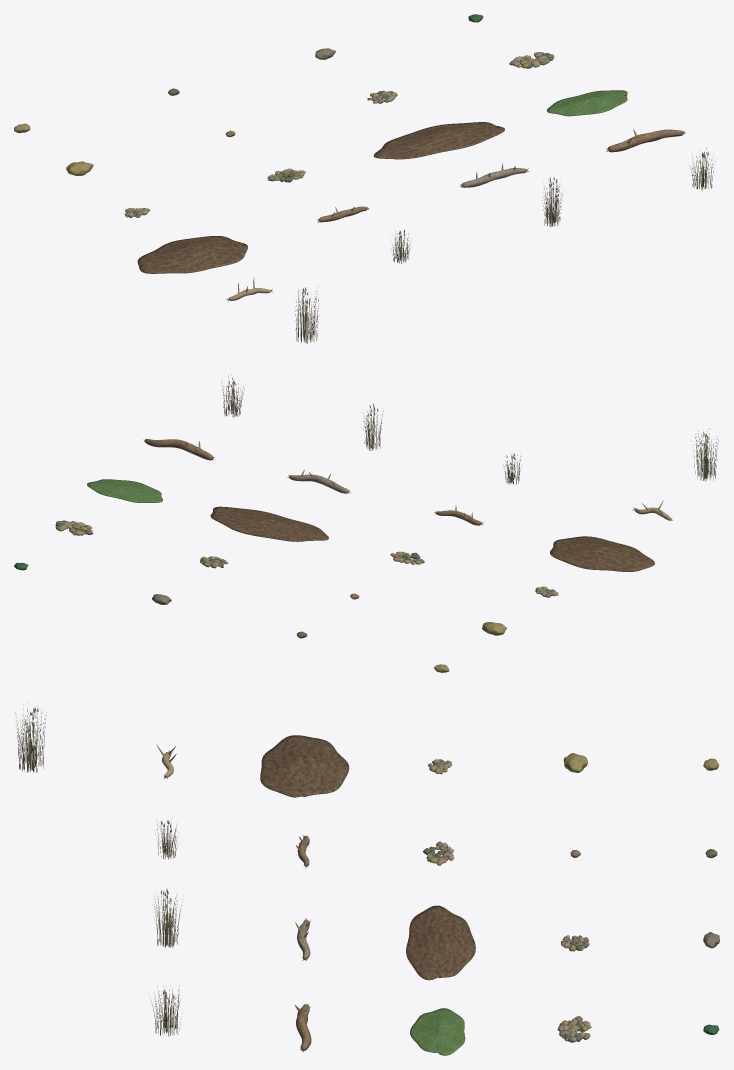
The model's file is ProjectZ_Riverbank_Rocks_Driftwood.glb.
3 views of the same model, one above another, from view 1: azimuth 30°, elevation 25°; view 2: azimuth 150°, elevation 25°; view 3: azimuth 270°, elevation 25° (orthographic). The views are drawn at different scales.
Visible parts, largest first — view 1: RENDER_SAND_BANK_03, RENDER_SAND_BANK_01, RENDER_SAND_BANK_02, RENDER_REEDS_04, RENDER_DRIFTWOOD_03, RENDER_REEDS_02, RENDER_DRIFTWOOD_02, RENDER_REEDS_03; view 2: RENDER_SAND_BANK_03, RENDER_SAND_BANK_01, RENDER_SAND_BANK_02, RENDER_REEDS_04, RENDER_DRIFTWOOD_03, RENDER_REEDS_02, RENDER_REEDS_03; view 3: RENDER_SAND_BANK_03, RENDER_SAND_BANK_01, RENDER_SAND_BANK_02, RENDER_REEDS_04, RENDER_REEDS_02, RENDER_REEDS_03, RENDER_GRAVEL_CLUSTER_02.
Boxes of the visible parts, box(x1,y1,x2,y2) form: RENDER_SAND_BANK_03: box(137, 236, 247, 273); RENDER_SAND_BANK_01: box(373, 122, 504, 159); RENDER_SAND_BANK_02: box(546, 90, 627, 116); RENDER_REEDS_04: box(295, 287, 318, 343); RENDER_DRIFTWOOD_03: box(606, 129, 685, 152); RENDER_REEDS_02: box(542, 177, 562, 226); RENDER_DRIFTWOOD_02: box(459, 163, 529, 187); RENDER_REEDS_03: box(688, 147, 713, 190); RENDER_SAND_BANK_03: box(550, 536, 654, 571); RENDER_SAND_BANK_01: box(210, 506, 328, 541); RENDER_SAND_BANK_02: box(87, 479, 162, 502); RENDER_REEDS_04: box(692, 428, 718, 481); RENDER_DRIFTWOOD_03: box(143, 439, 214, 460); RENDER_REEDS_02: box(363, 403, 383, 450); RENDER_REEDS_03: box(221, 374, 243, 417); RENDER_SAND_BANK_03: box(260, 735, 349, 797); RENDER_SAND_BANK_01: box(406, 905, 475, 980); RENDER_SAND_BANK_02: box(410, 1008, 465, 1055); RENDER_REEDS_04: box(15, 703, 46, 772); RENDER_REEDS_02: box(153, 888, 182, 947); RENDER_REEDS_03: box(151, 985, 181, 1036); RENDER_GRAVEL_CLUSTER_02: box(557, 1015, 591, 1042).
Size of the model in its own units: 24.48 by 2.19 by 22.84.
Materials: 2 (2 with a texture image).
